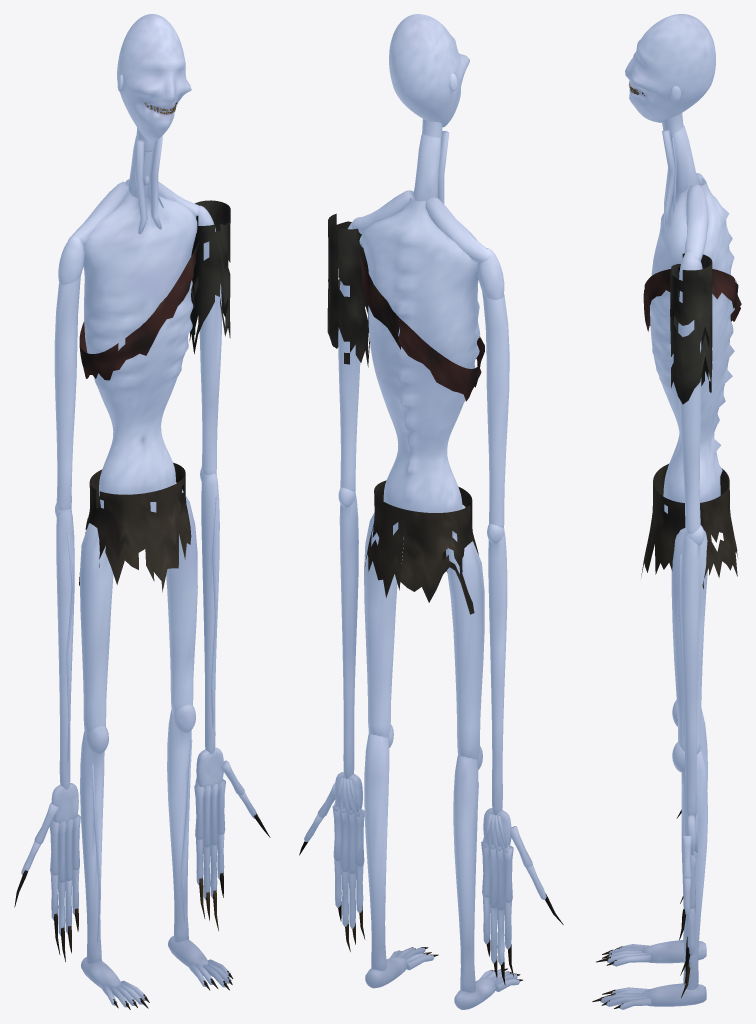
File: bledy_3.glb
3 views of the same model, side by side, from view 1: azimuth 30°, elevation 25°; view 2: azimuth 150°, elevation 25°; view 3: azimuth 270°, elevation 25° (orthographic). The views are drawn at different scales.
Parts seen in each view (by area): view 1: koza.033, latka.001, koza.034, koza.002, koza.001, koza.028, koza.031, koza.032, koza.026, latka.002, koza.027, koza.029 (+4 smaller); view 2: koza.033, latka.001, koza.034, koza.002, koza.001, koza.031, koza.028, koza.032, latka.002, koza.027, koza.026, latka (+4 smaller); view 3: koza.033, koza.034, latka.002, koza.002, latka.001, koza.027, koza.029, koza.032, koza.001, koza.025, latka, koza.021 (+1 smaller).
Boxes of the visible parts, x1,y1,x2,y2 form: koza.033: (68,179,199,512); latka.001: (79,462,191,592); koza.034: (117,14,191,141); koza.002: (167,704,231,987); koza.001: (80,725,146,1007); koza.028: (54,236,84,510); koza.031: (79,523,113,736); koza.032: (166,489,197,715); koza.026: (55,503,74,789); latka.002: (189,200,230,353); koza.027: (200,467,219,754); koza.029: (196,205,221,475); koza.033: (351,190,490,539); latka.001: (364,480,478,614); koza.034: (389,14,469,127); koza.002: (364,724,434,988); koza.001: (453,746,519,1009); koza.031: (446,533,484,759); koza.028: (477,248,509,528); koza.032: (364,512,397,737); latka.002: (327,213,369,367); koza.027: (338,487,358,778); koza.026: (487,524,507,814); latka: (356,244,484,401); koza.033: (650,173,737,513); koza.034: (625,14,715,122); latka.002: (670,253,712,404); koza.002: (600,741,707,1009); latka.001: (641,464,738,589); koza.027: (678,525,704,817); koza.029: (678,250,702,534); koza.032: (671,528,707,754); koza.001: (606,700,707,966); koza.025: (662,122,698,226); latka: (643,267,741,331); koza.021: (681,836,692,878).
Bounding box in the file's own units: 0.8865 × 3.14 × 0.4365.
